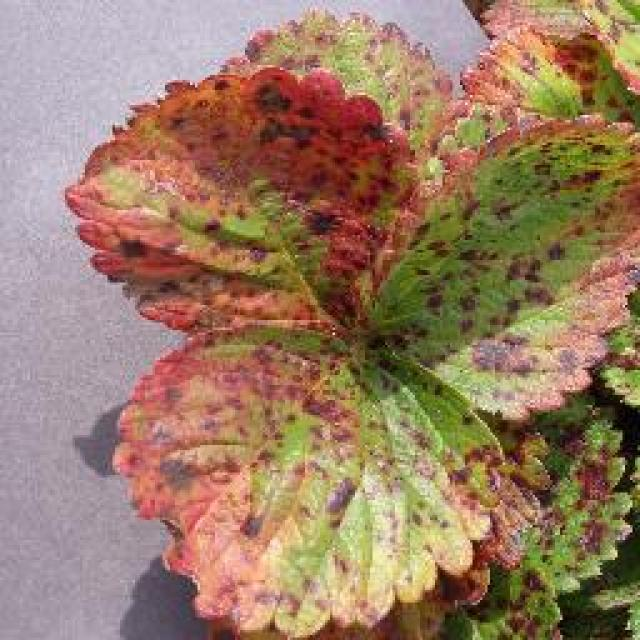Strawberry leaf scorch: (50, 65, 507, 627)
